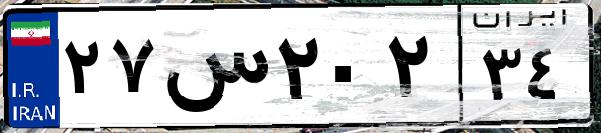0: (330, 28, 385, 110)
2: (270, 28, 330, 110), (385, 28, 445, 110), (57, 26, 110, 100)
3: (475, 38, 525, 113)
4: (525, 38, 570, 115)
7: (110, 28, 158, 98)
س: (158, 20, 270, 120)
